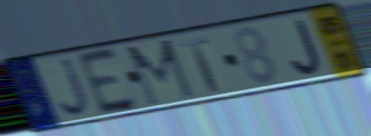8: (233, 23, 282, 89)
E: (74, 45, 141, 118)
J: (58, 55, 93, 119), (288, 17, 324, 78)
M: (124, 36, 198, 109)
T: (177, 34, 222, 93)
